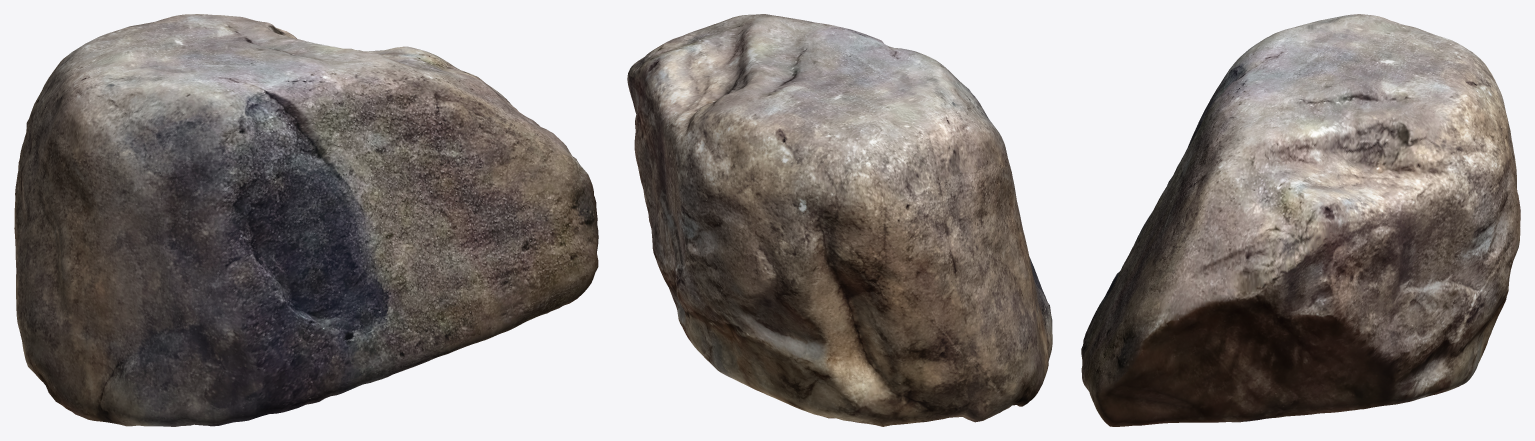
Rendered from rock.glb.
3 renders of one model, left to right at view 1: azimuth 30°, elevation 25°; view 2: azimuth 150°, elevation 25°; view 3: azimuth 270°, elevation 25°, orthographic. The views are drawn at different scales.
Visible parts, largest first — view 1: LoRes_Retopo_01 - Default_0; view 2: LoRes_Retopo_01 - Default_0; view 3: LoRes_Retopo_01 - Default_0.
Boxes of the visible parts, x1,y1,x2,y2 form: LoRes_Retopo_01 - Default_0: [14, 14, 598, 426]; LoRes_Retopo_01 - Default_0: [627, 14, 1052, 426]; LoRes_Retopo_01 - Default_0: [1081, 14, 1520, 426].
Size of the model in its own units: 0.4627 by 0.2974 by 0.3646.
1 material, 1 textured.
